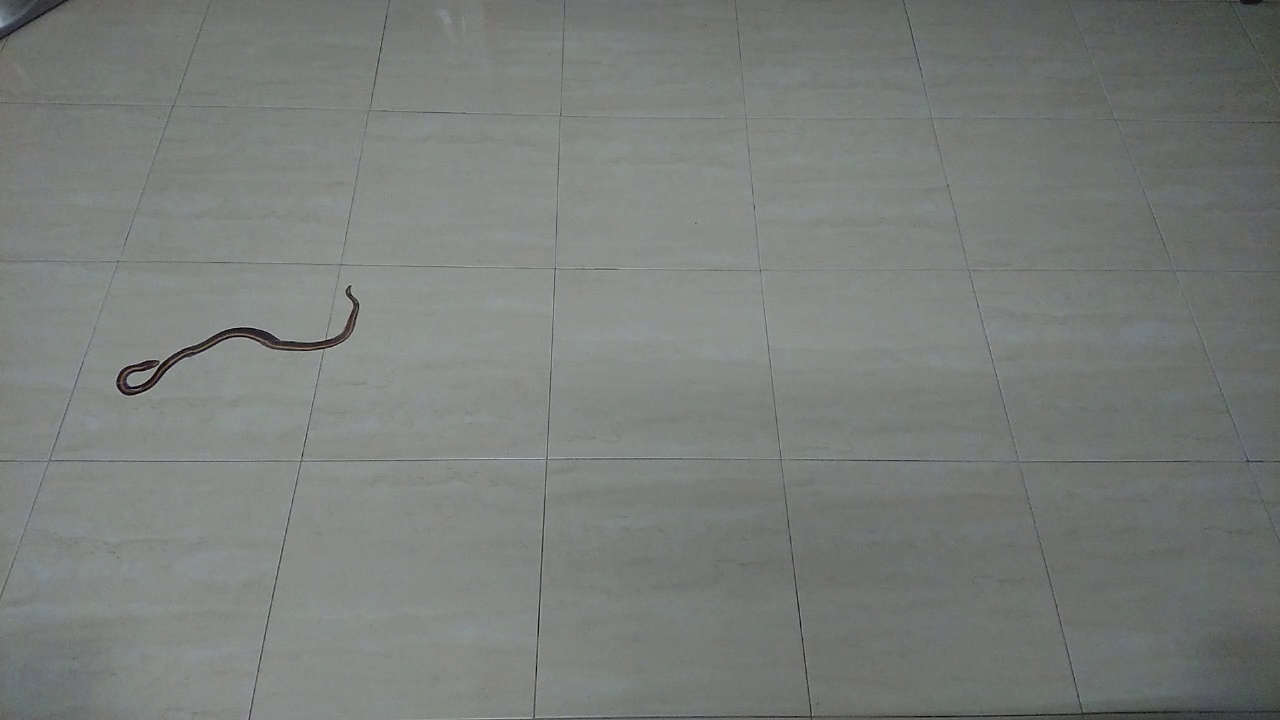snake: (99, 271, 374, 405)
